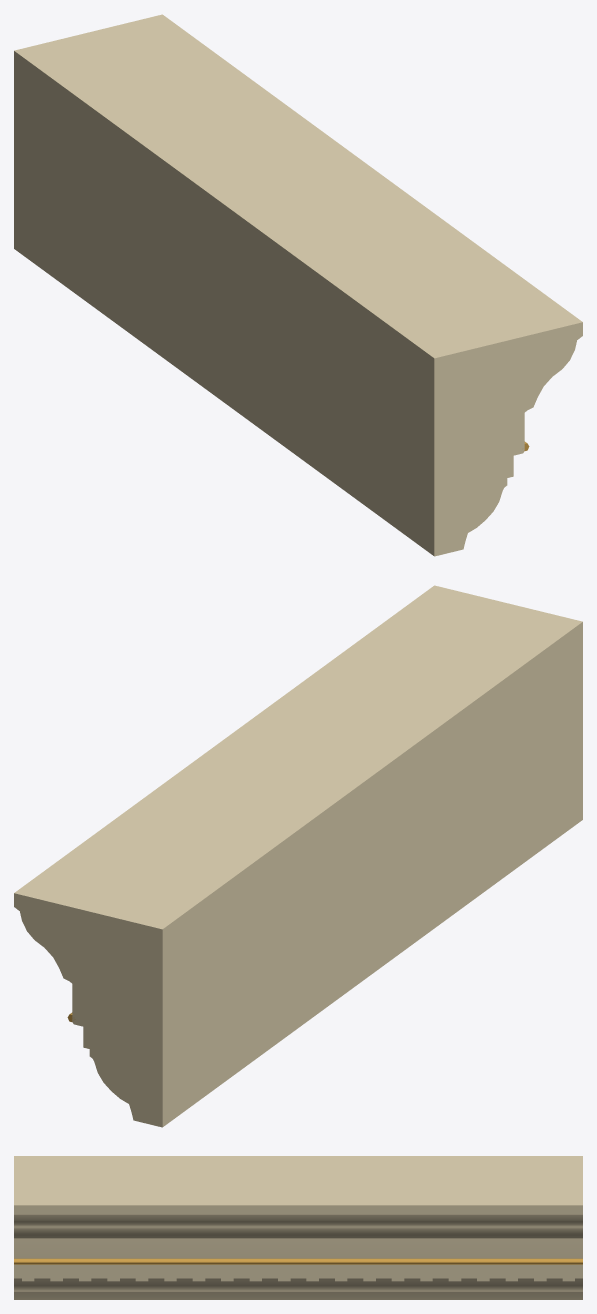
File: cornice.glb
3 views of the same model, one above another, from view 1: azimuth 30°, elevation 25°; view 2: azimuth 150°, elevation 25°; view 3: azimuth 270°, elevation 25° (orthographic). The views are drawn at different scales.
Parts seen in each view (by area): view 1: gesims; view 2: gesims; view 3: gesims, zahnschnitt, rundstab.
Boxes of the visible parts, x1,y1,x2,y2 form: gesims: (14,14,582,556); gesims: (14,585,582,1127); gesims: (14,1156,582,1299); zahnschnitt: (22,1265,574,1281); rundstab: (14,1258,582,1264).
Size of the model in its own units: 0.204 by 0.26 by 1.
